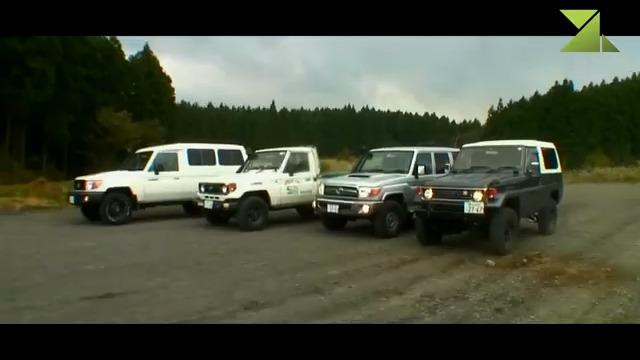MIL_HMMWV: (409, 138, 564, 252), (66, 140, 248, 223), (310, 142, 462, 235), (196, 145, 322, 232)
